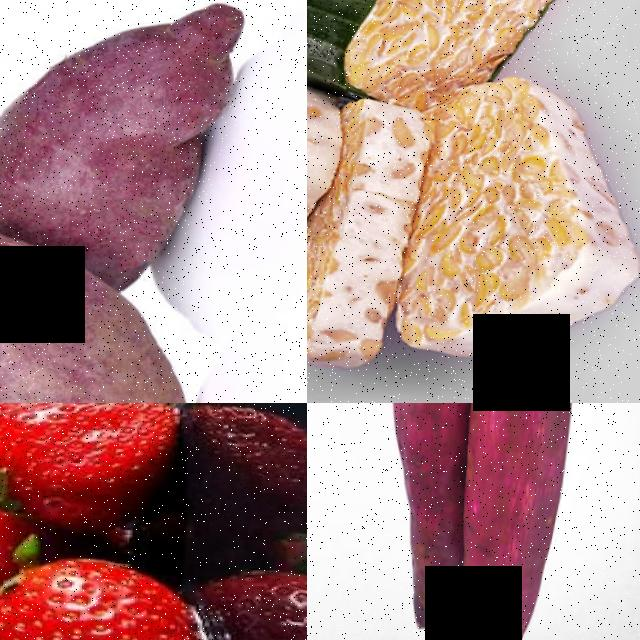strawberry: (0, 403, 185, 536), (0, 552, 242, 640)
sweet potato: (0, 0, 246, 241), (0, 176, 210, 403), (447, 403, 582, 640), (370, 403, 485, 640)
tempeh: (401, 89, 634, 362), (344, 0, 587, 102), (307, 231, 393, 369), (307, 78, 348, 218)
